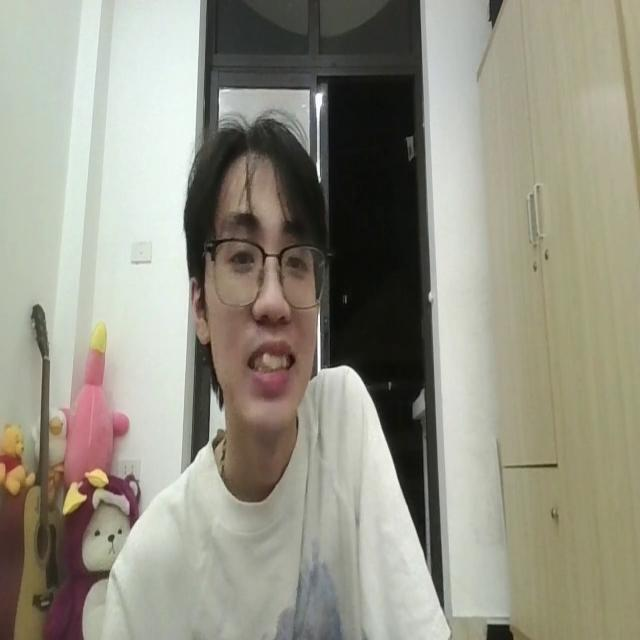student: (105, 101, 453, 640)
